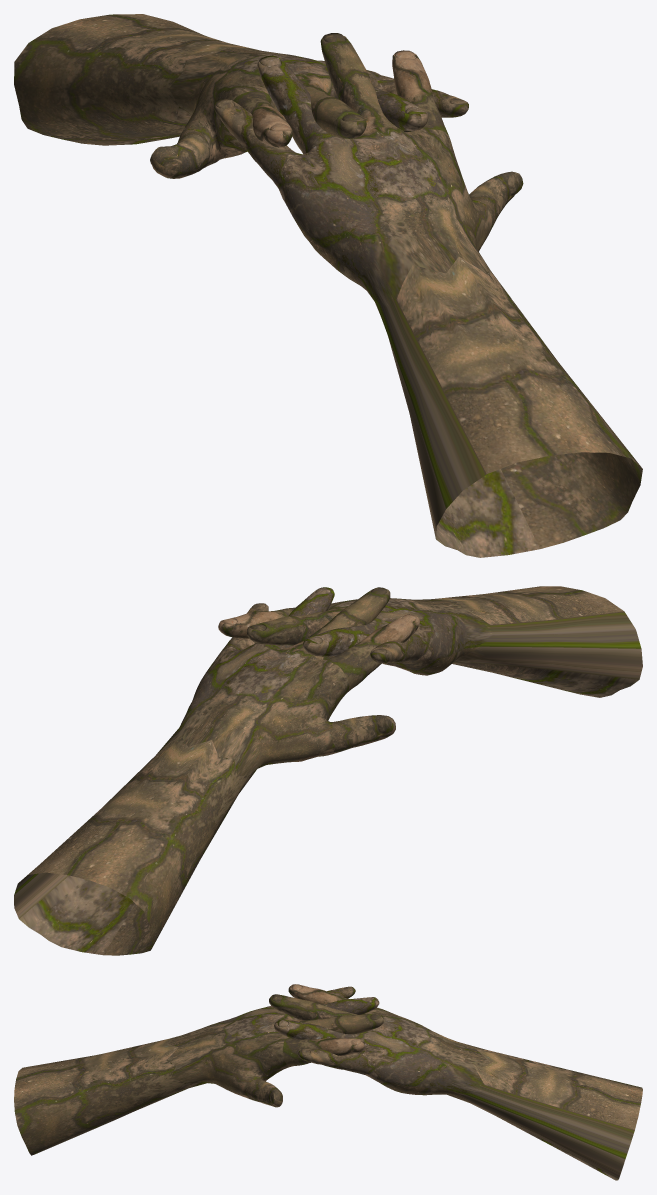
File: hands_000003.obj
3 views of the same model, one above another, from view 1: azimuth 30°, elevation 25°; view 2: azimuth 150°, elevation 25°; view 3: azimuth 270°, elevation 25° (orthographic). The views are drawn at different scales.
Visible parts, largest first — view 1: hand.001_Mesh.001, hand_Mesh; view 2: hand_Mesh, hand.001_Mesh.001; view 3: hand_Mesh, hand.001_Mesh.001.
Part boxes in pixels (x1,y1,x2,y2): hand.001_Mesh.001: (214, 33, 642, 557); hand_Mesh: (14, 14, 468, 178); hand_Mesh: (14, 587, 420, 955); hand.001_Mesh.001: (218, 586, 642, 697); hand_Mesh: (269, 984, 642, 1180); hand.001_Mesh.001: (14, 986, 383, 1155).
Bounding box in the file's own units: 1.58 × 1.4 × 5.13.
Materials: 1 (1 with a texture image).
